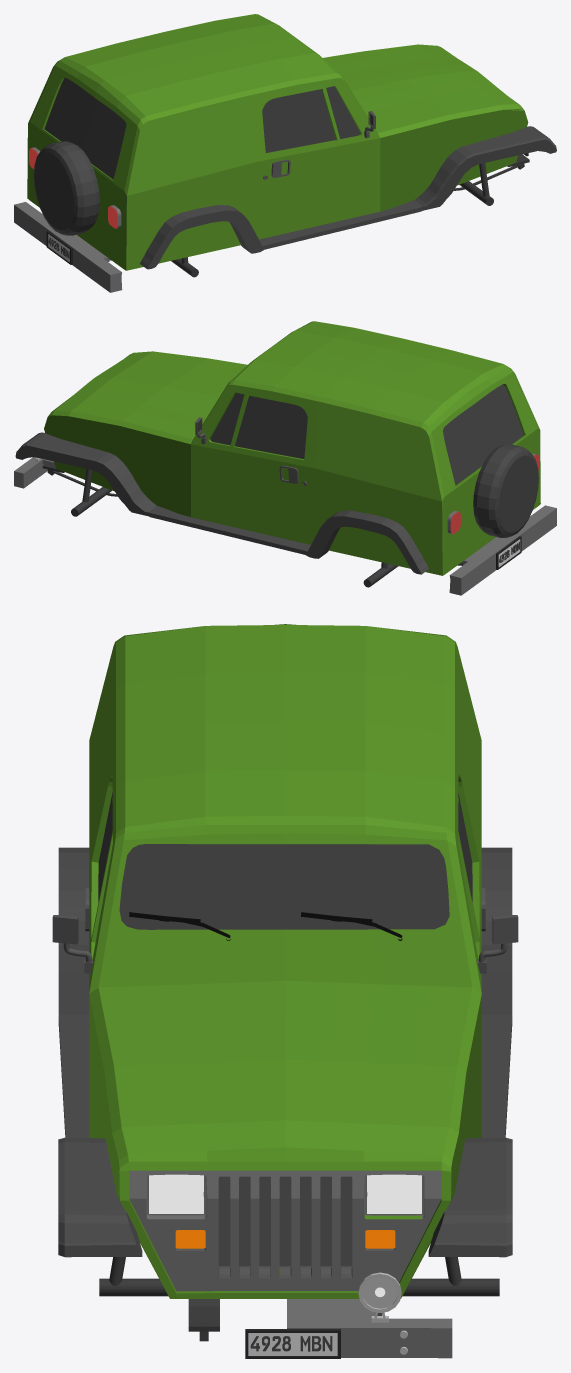
The model's file is jeep.glb.
The picture shows the model from 3 angles, top to bottom: view 1: azimuth 30°, elevation 25°; view 2: azimuth 150°, elevation 25°; view 3: azimuth 270°, elevation 25°; orthographic projection. The views are drawn at different scales.
Visible parts, largest first — view 1: Cube; view 2: Cube; view 3: Cube.
Part boxes in pixels (x1=…): Cube: x1=14, y1=14, x2=556, y2=292; Cube: x1=14, y1=321, x2=556, y2=595; Cube: x1=52, y1=624, x2=518, y2=1358.
Bounding box in the file's own units: 5.04 × 1.82 × 2.19.
